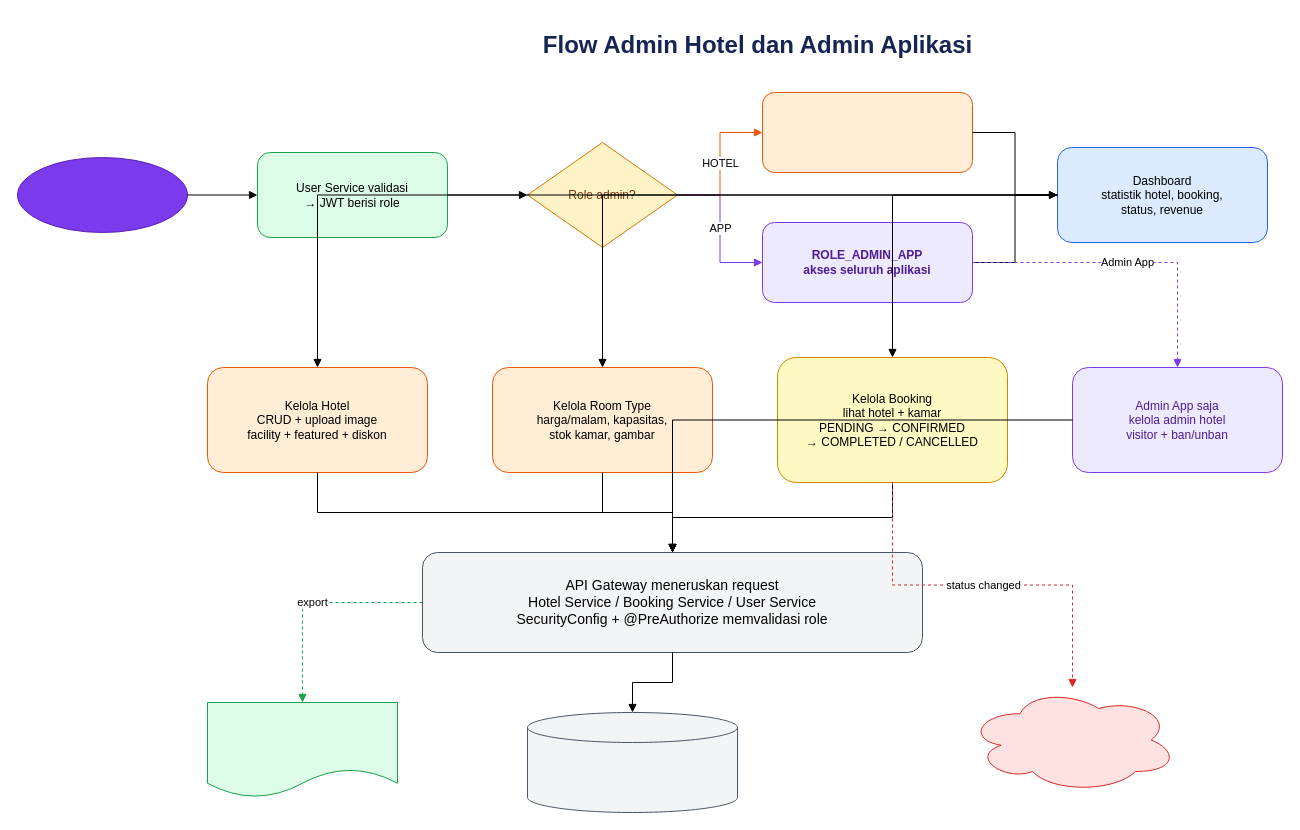
This 1300x830 diagram has some shape labels left out. The shapes that lost their labels are listed below. From the top down, each one's box as (x1, y1, x2, y2) in pixels, then its label:
(762, 92, 972, 172): ROLE_ADMIN_HOTEL akses hotel terkait
(16, 156, 188, 232): Admin login email + password
(206, 702, 398, 798): Download Excel semua hotel / booking
(966, 686, 1178, 792): Email user saat status booking berubah
(526, 712, 738, 812): PostgreSQL Simpan perubahan secara transaksional
